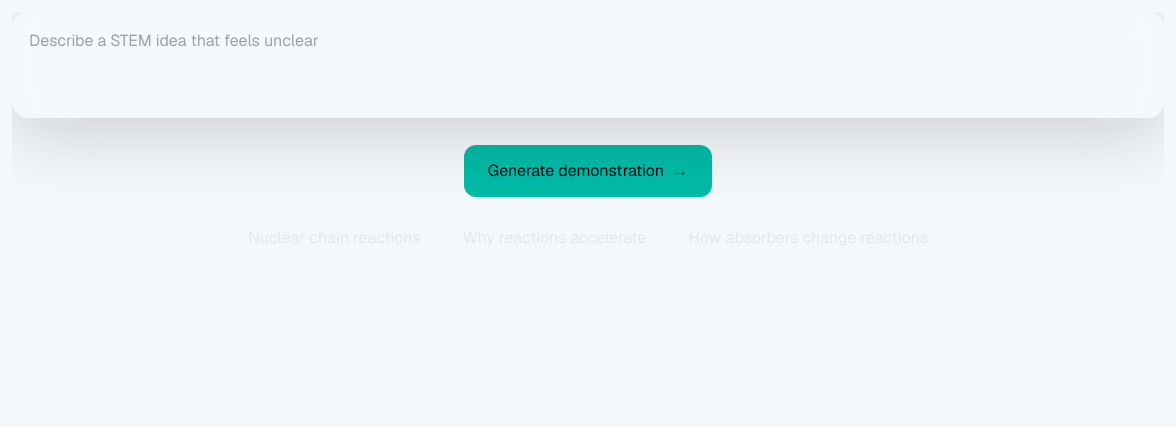
Test: AskDemoForm › shows an honest error when even the offline fallback fails
In the text box named "What topic do you need help with?": (588, 65) [12,12,1164,118], type "Show why planets stay in orbit."
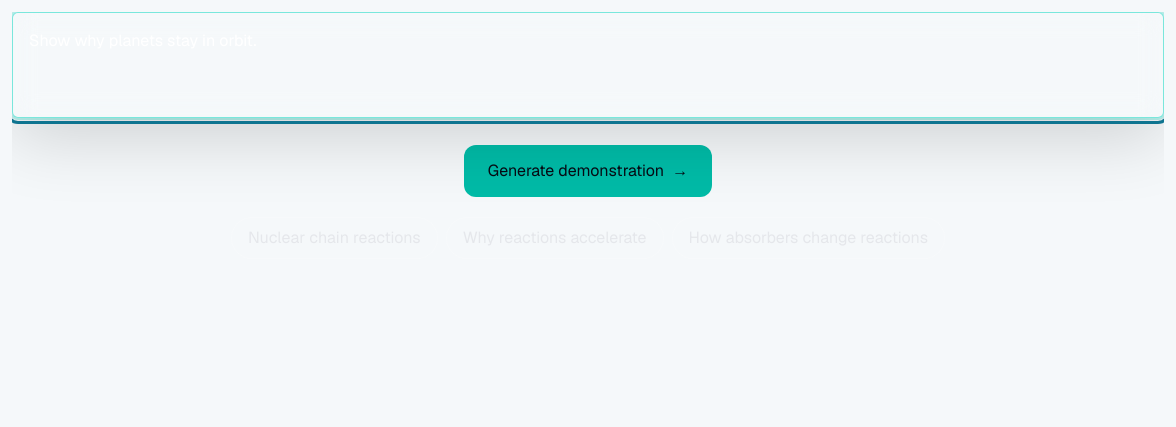
Click the button "Generate demonstration →": click(588, 171) [464,145,712,197]
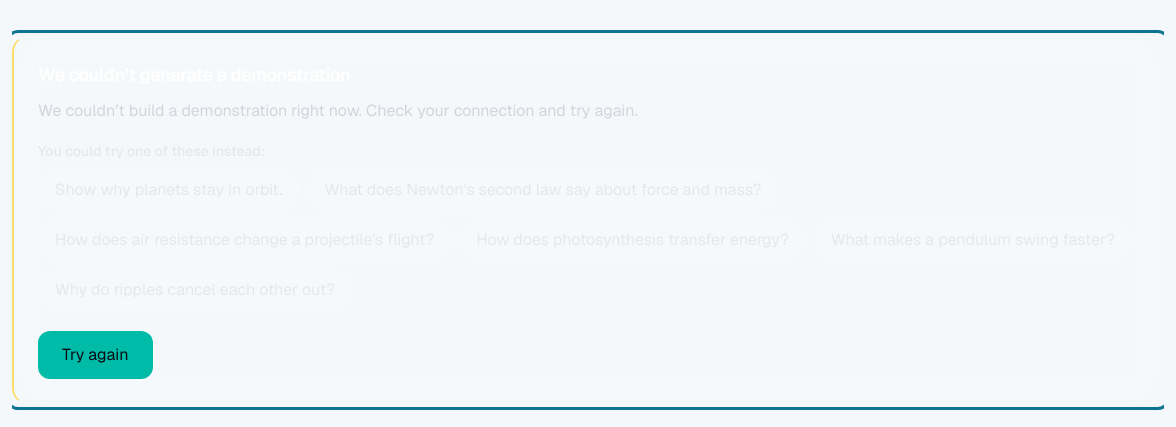
Expected: the text "Check your connection" is shown, [38,100,638,121]
